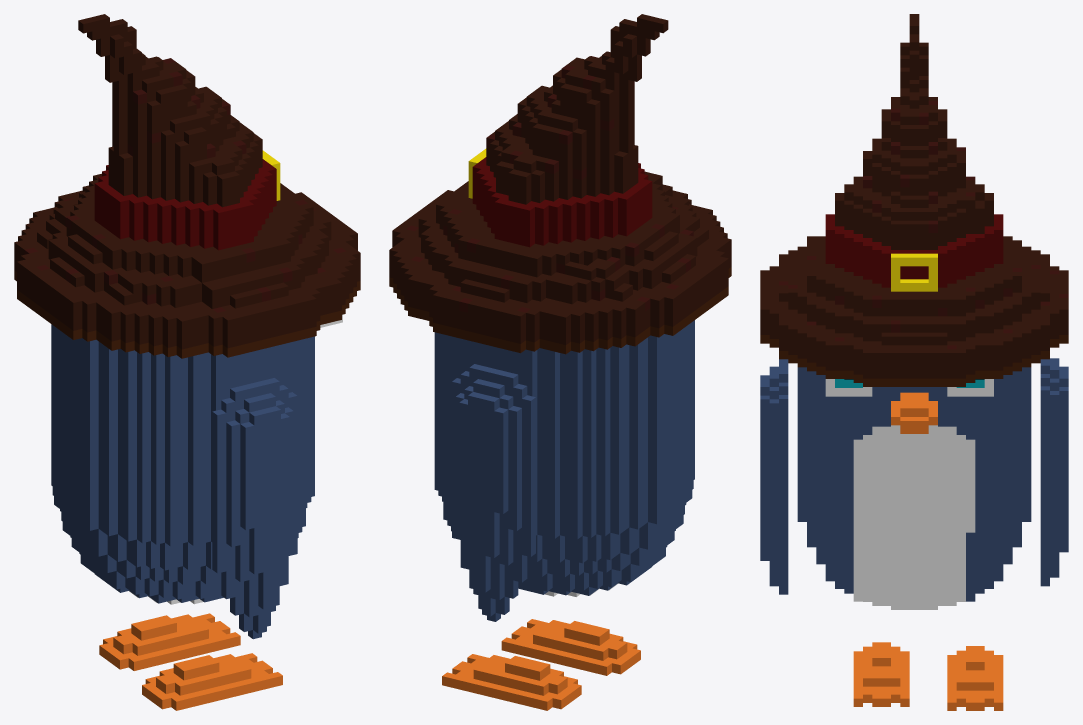
The model's file is pingouin.obj.
The picture shows the model from 3 angles, left to right: view 1: azimuth 30°, elevation 25°; view 2: azimuth 150°, elevation 25°; view 3: azimuth 270°, elevation 25°; orthographic projection. The views are drawn at different scales.
Bounding box in the file's own units: 3.2 × 7.3 × 3.3.
1 material, 1 textured.
